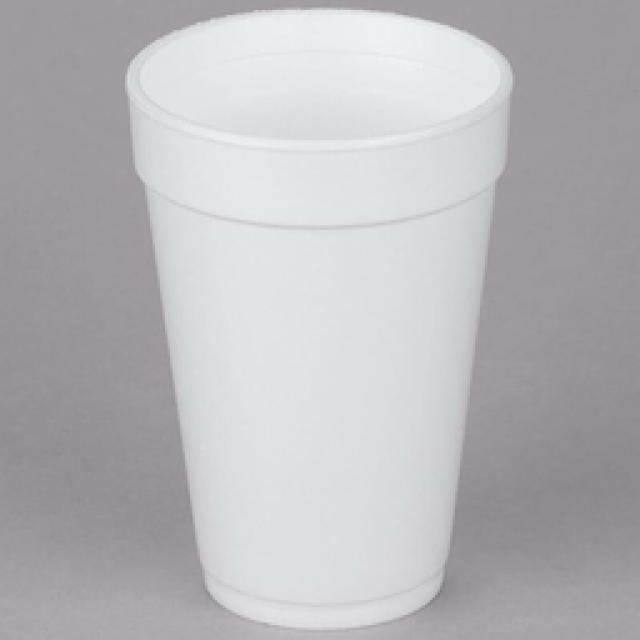styrofoam: (125, 10, 508, 628)
